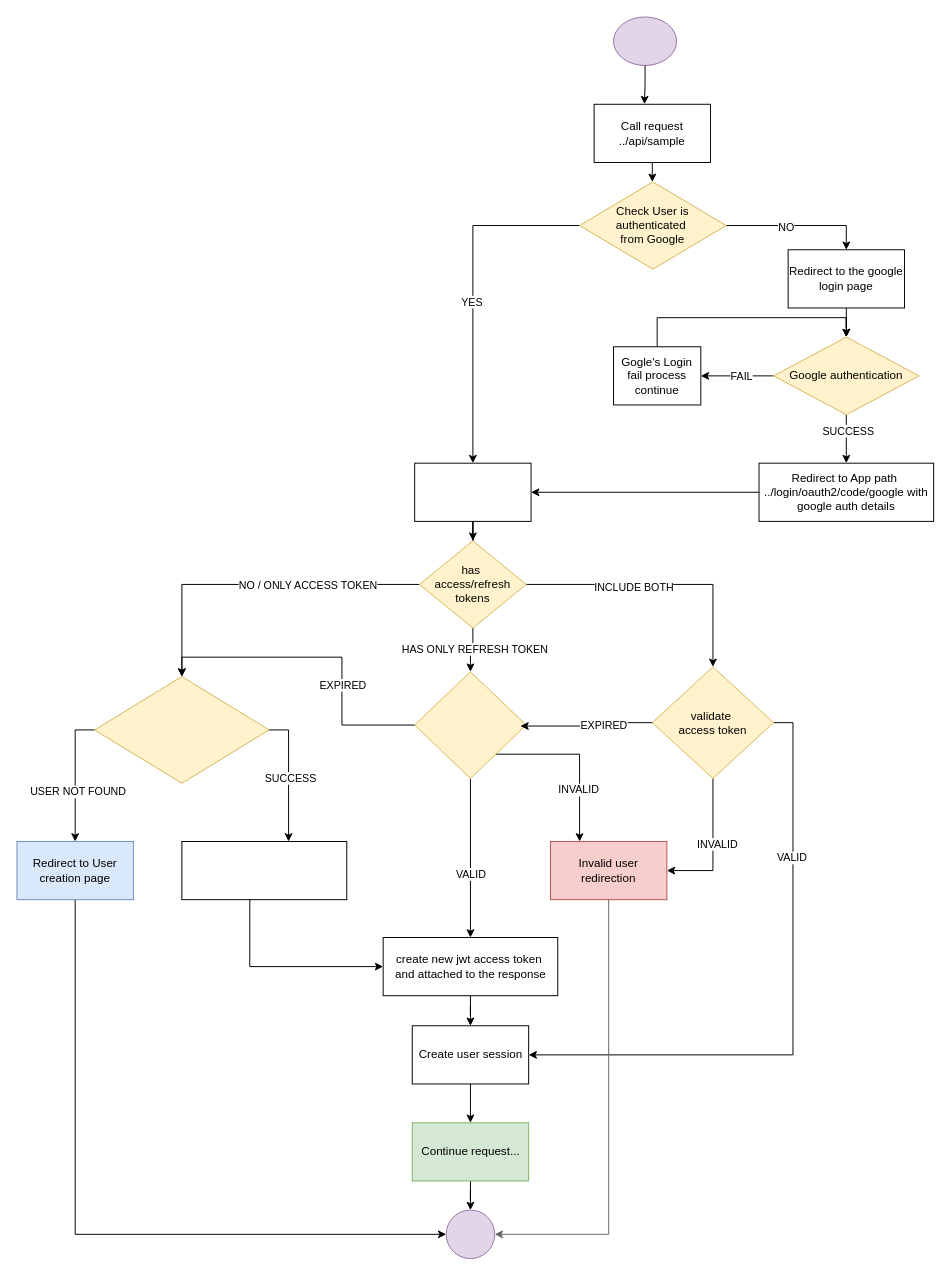
The diagram is 951 pixels wide and 1276 high, and some of its shapes have lost their labels. Each missing label, with the centre of its shape:
"Continue request ../api/sample" belongs at pixel 472 491.
"create new jwt refresh token and attached to the response" belongs at pixel 264 870.
"End" belongs at pixel 470 1234.
"Start" belongs at pixel 645 40.
"User validation of App (from mail that google provided)" belongs at pixel 181 729.
"validate refresh token" belongs at pixel 470 724.
